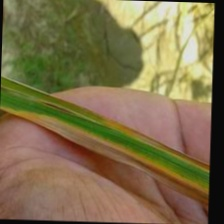Leaf_Blast: (2, 72, 189, 187)
